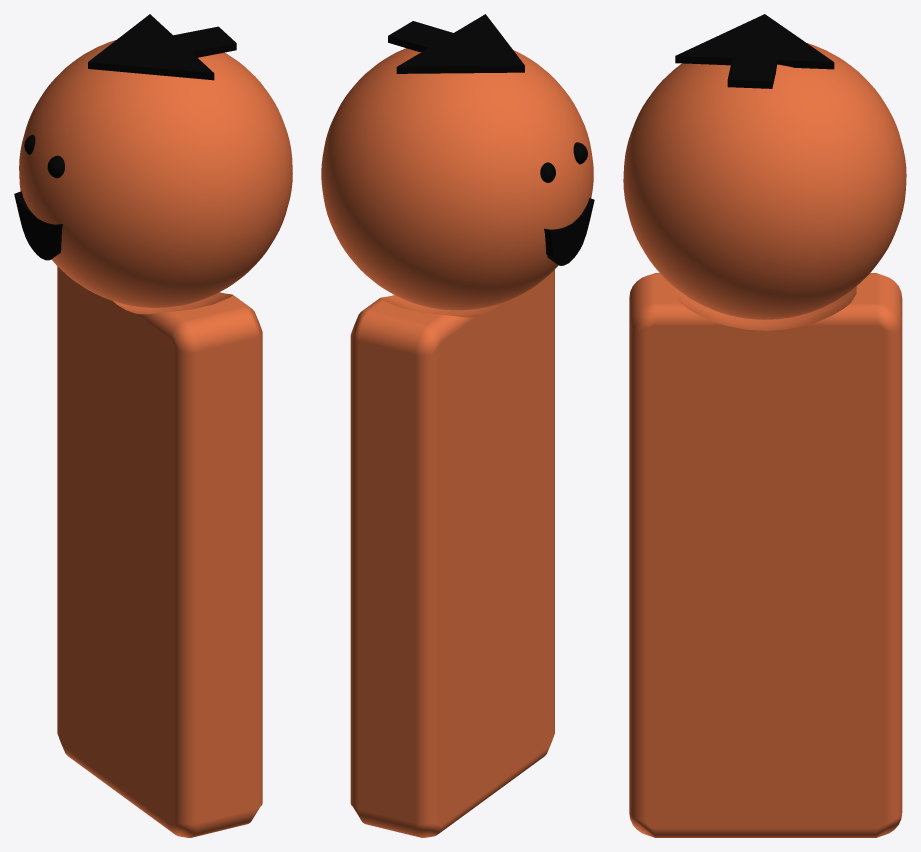
The model's file is beige_happy.obj.
3 views of the same model, side by side, from view 1: azimuth 30°, elevation 25°; view 2: azimuth 150°, elevation 25°; view 3: azimuth 270°, elevation 25° (orthographic). The views are drawn at different scales.
Parts seen in each view (by area): view 1: 1_Curve.002_Curve.004, 5.002_Curve.002_Curve.003_5.002_Curve.002_Curve.004; view 2: 1_Curve.002_Curve.004, 5.002_Curve.002_Curve.003_5.002_Curve.002_Curve.004; view 3: 1_Curve.002_Curve.004, 5.002_Curve.002_Curve.003_5.002_Curve.002_Curve.004.
Boxes of the visible parts, x1,y1,x2,y2 form: 1_Curve.002_Curve.004: (19, 35, 292, 837); 5.002_Curve.002_Curve.003_5.002_Curve.002_Curve.004: (14, 14, 236, 260); 1_Curve.002_Curve.004: (321, 48, 593, 837); 5.002_Curve.002_Curve.003_5.002_Curve.002_Curve.004: (388, 14, 594, 265); 1_Curve.002_Curve.004: (623, 43, 906, 837); 5.002_Curve.002_Curve.003_5.002_Curve.002_Curve.004: (675, 14, 834, 88).
Bounding box in the file's own units: 0.1662 × 0.4993 × 0.1661.
